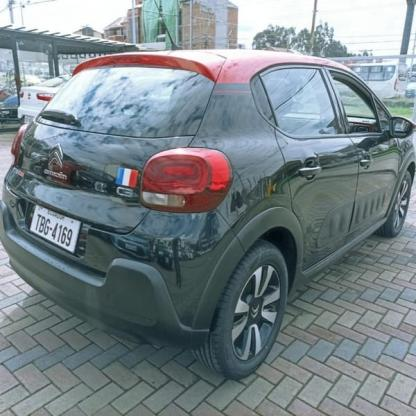Placa: (28, 203, 84, 254)
